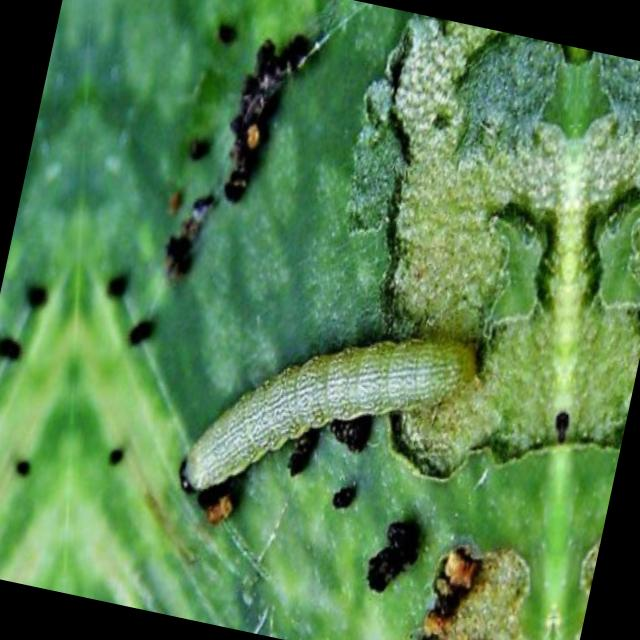Armyworm: (146, 267, 499, 590)
